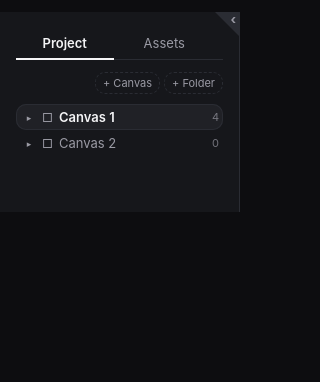
Test: the canvas tree › opens a board onto the four kinds of thing it uses
Click the button named "Open Canvas 1": {"x": 29, "y": 117} [20,108,38,126]
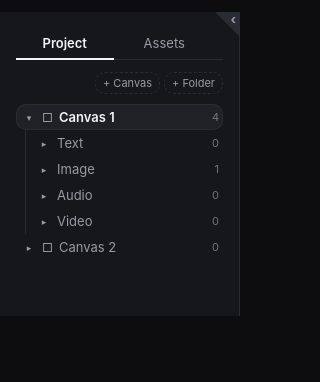
Click the button "Image": {"x": 134, "y": 169} [55,157,212,181]
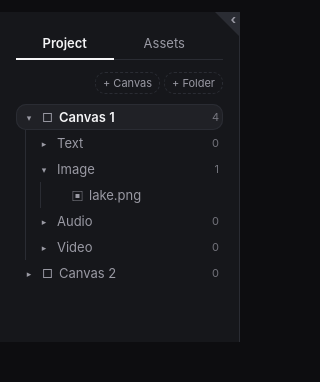
Expected: the button "lake.png" is shown, [87,183,184,207]
# A kind with nothing under it still says so, rather than going missing.
Click the button "Audio": {"x": 132, "y": 221} [55,209,210,233]
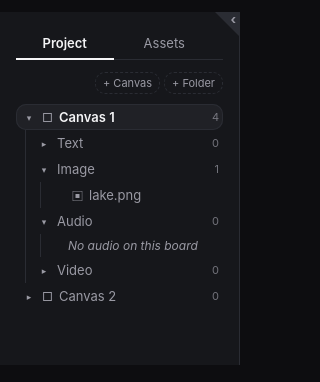
Expected: the list item "No audio on this board" is shown, [68,238,198,253]
